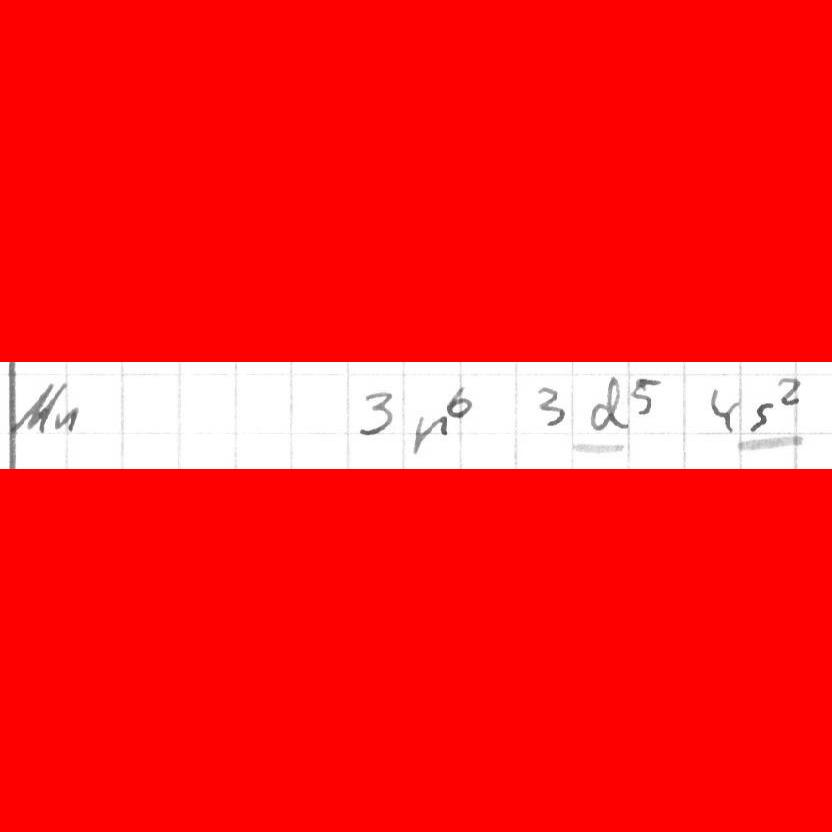Char: (10, 379, 58, 433), (588, 374, 630, 434), (357, 388, 397, 437), (534, 384, 569, 430), (709, 386, 741, 436), (411, 413, 448, 454), (628, 374, 663, 416), (444, 384, 474, 420), (749, 402, 775, 435), (776, 376, 802, 406), (54, 407, 83, 432)
